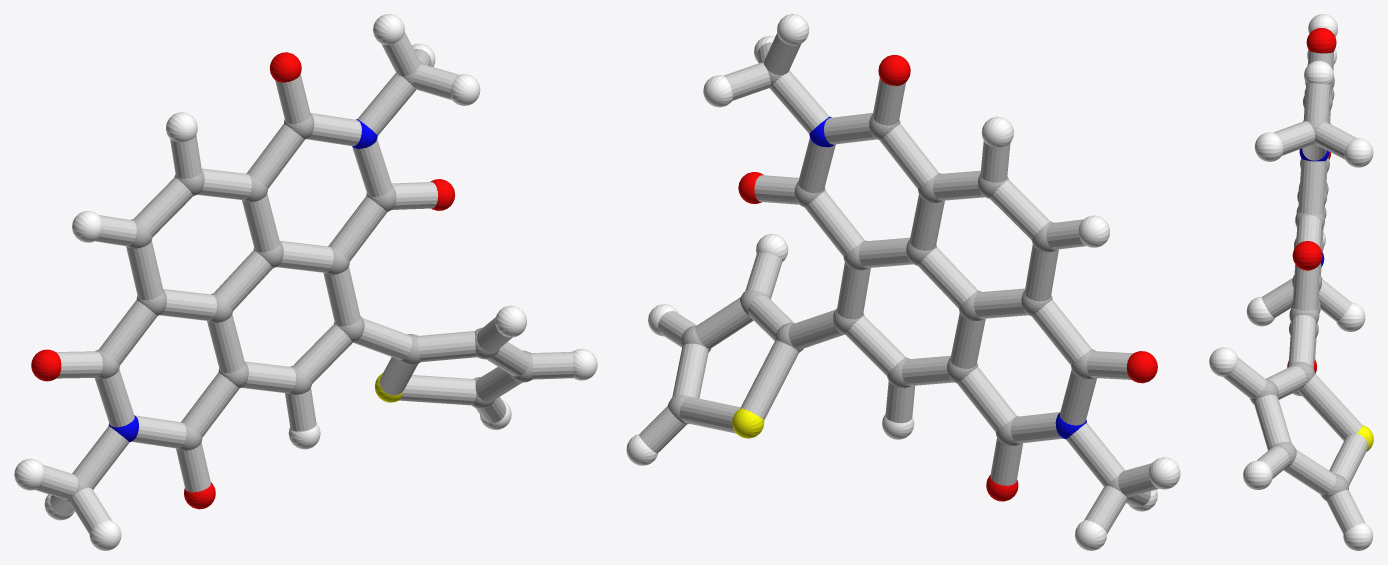
Rendered from Dimethyl_Naphthalene_Dicarboximide_Phi_5_Theta_50_Thiophene.glb.
3 renders of one model, left to right at view 1: azimuth 30°, elevation 25°; view 2: azimuth 150°, elevation 25°; view 3: azimuth 270°, elevation 25°, orthographic. The views are drawn at different scales.
Parts seen in each view (by area): view 1: grp14119, grp7241, grp1, grp12309, grp11585; view 2: grp14119, grp7241, grp1, grp12309, grp13757, grp11585; view 3: grp14119, grp7241, grp1, grp12309.
Boxes of the visible parts, x1,y1,x2,y2 form: grp14119: (35, 32, 573, 534); grp7241: (14, 14, 597, 550); grp1: (65, 61, 532, 503); grp12309: (31, 52, 455, 509); grp11585: (108, 119, 377, 442); grp14119: (639, 33, 1158, 533); grp7241: (626, 14, 1180, 550); grp1: (668, 59, 1132, 499); grp12309: (738, 55, 1157, 501); grp13757: (732, 408, 764, 438); grp11585: (809, 116, 1086, 439); grp14119: (1223, 50, 1368, 533); grp7241: (1209, 14, 1373, 550); grp1: (1250, 76, 1348, 500); grp12309: (1287, 28, 1336, 373).
Bounding box in the file's own units: 11.93 × 9.52 × 3.31.
